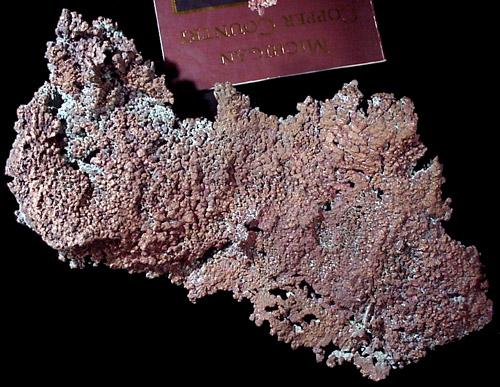copper: (5, 10, 493, 380)
